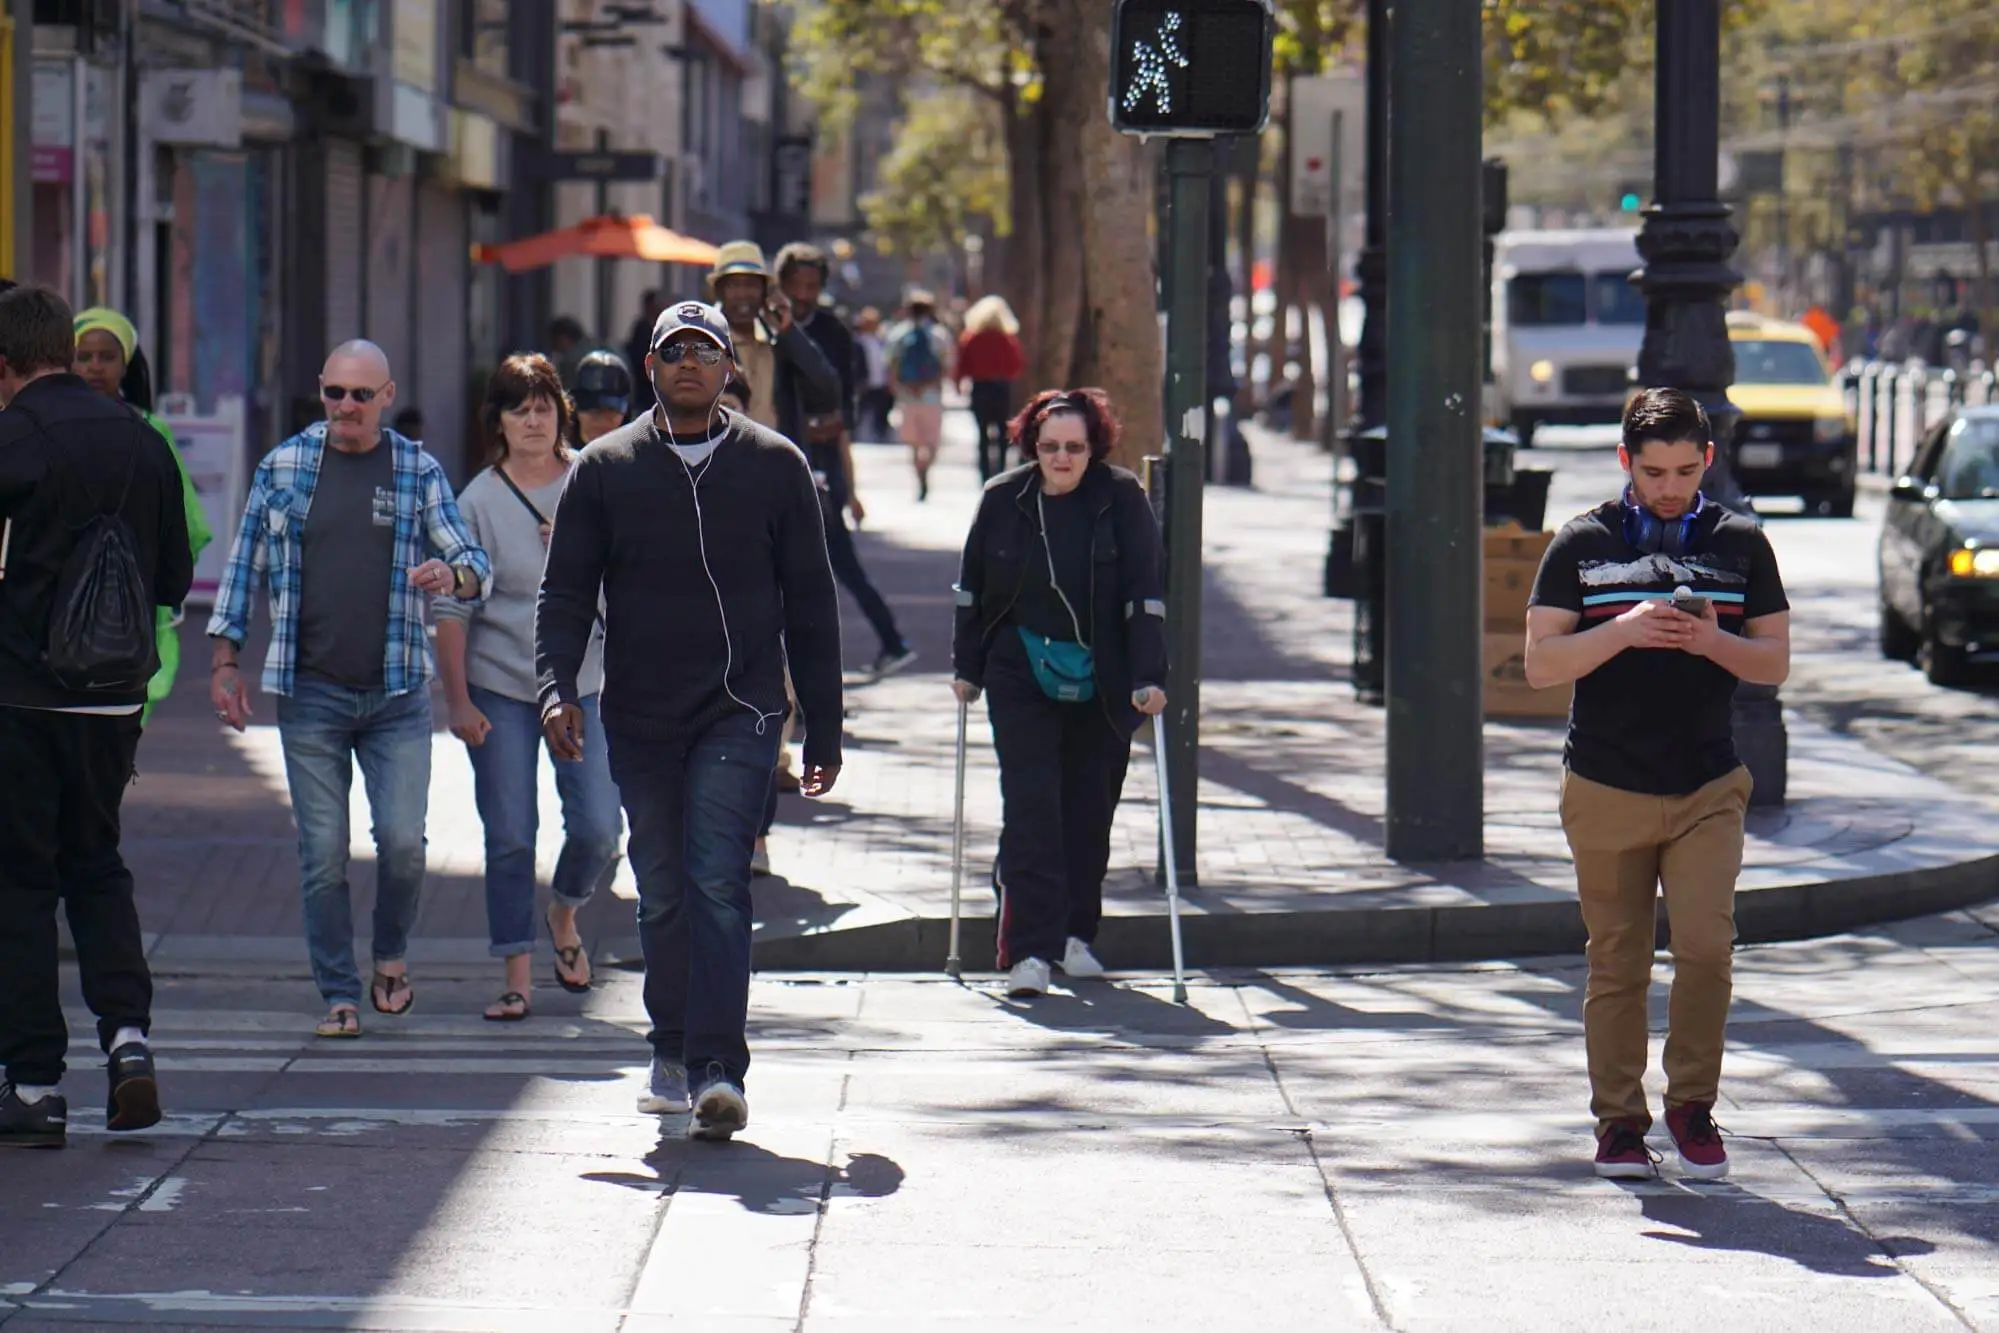person: (532, 299, 853, 1149), (1515, 379, 1799, 1201), (198, 333, 490, 1039), (928, 368, 1180, 1010), (1, 272, 180, 1141), (442, 345, 615, 1008), (771, 231, 898, 687), (876, 291, 957, 504), (951, 291, 1034, 476)
